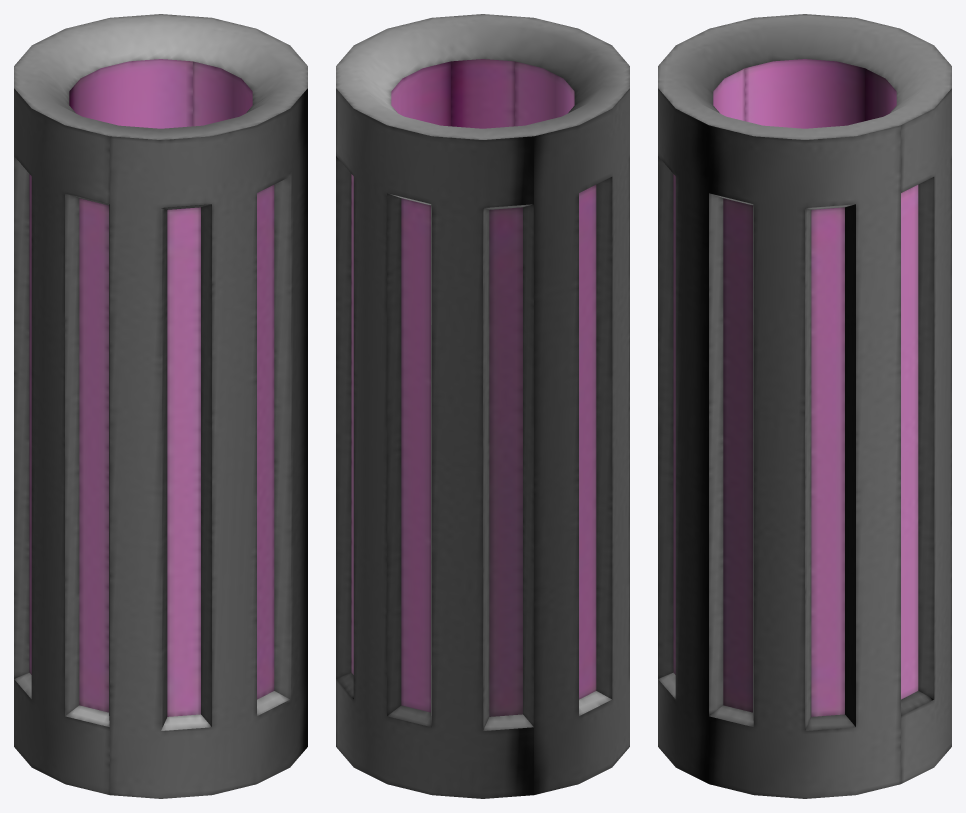
Rendered from pillar.obj.
3 views of the same model, side by side, from view 1: azimuth 30°, elevation 25°; view 2: azimuth 150°, elevation 25°; view 3: azimuth 270°, elevation 25° (orthographic).
Parts seen in each view (by area): view 1: Cylinder001; view 2: Cylinder001; view 3: Cylinder001.
Part boxes in pixels (box(x1,y1,x2,y2)): Cylinder001: box(14, 14, 307, 798); Cylinder001: box(336, 14, 629, 798); Cylinder001: box(658, 14, 951, 798).
Size of the model in its own units: 13.25 by 32.26 by 13.04.
1 material, 1 textured.
